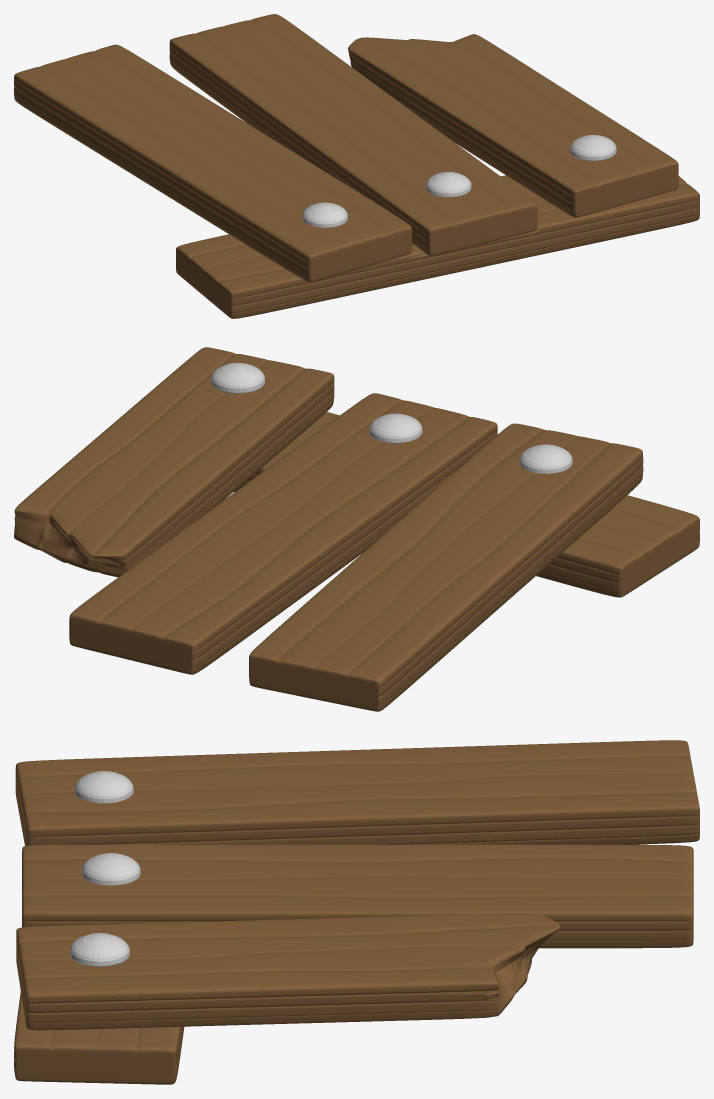
3 views of the same model, one above another, from view 1: azimuth 30°, elevation 25°; view 2: azimuth 150°, elevation 25°; view 3: azimuth 270°, elevation 25° (orthographic). The views are drawn at different scales.
Parts seen in each view (by area): view 1: plank.001, plank.002, plankb..002, plank.003, nail.002, nail, nail.003; view 2: plank.001, plank.002, plankb..002, plank.003, nail.002, nail, nail.003; view 3: plank.001, plank.002, plankb..002, plank.003, nail.002, nail, nail.003.
Part boxes in pixels (x1,y1,x2,y2): plank.001: (14, 44, 412, 282); plank.002: (169, 14, 537, 255); plankb..002: (348, 34, 678, 217); plank.003: (176, 175, 699, 318); nail.002: (569, 134, 616, 161); nail: (425, 172, 471, 197); nail.003: (302, 202, 348, 227); plank.001: (249, 423, 643, 711); plank.002: (69, 393, 497, 674); plankb..002: (14, 347, 334, 577); plank.003: (233, 412, 699, 597); nail.002: (210, 363, 265, 393); nail: (369, 413, 422, 443); nail.003: (519, 444, 572, 473); plank.001: (15, 740, 699, 845); plank.002: (22, 844, 693, 948); plankb..002: (16, 913, 560, 1030); plank.003: (14, 991, 184, 1084); nail.002: (69, 933, 129, 966); nail: (81, 853, 140, 885); nail.003: (74, 771, 133, 803).
Bounding box in the file's own units: 5429 × 875 × 5460.
